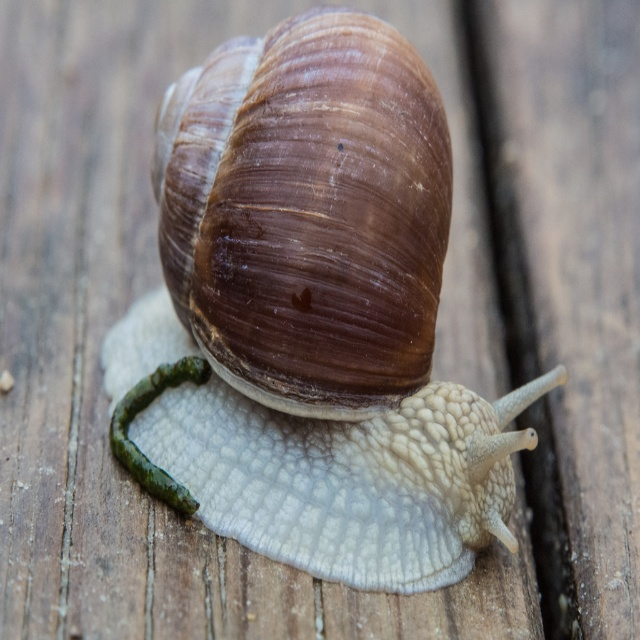Snail: (100, 5, 566, 595)
